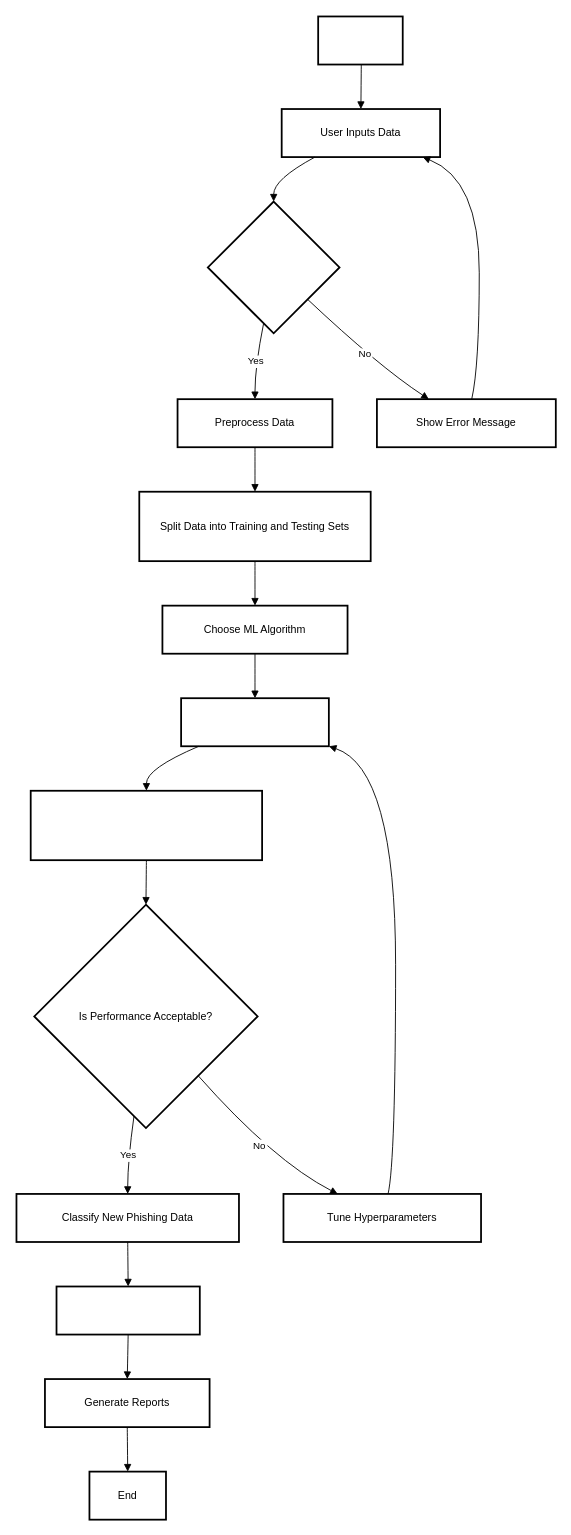
Some shapes in this 571 by 1535 pixel diagram are drawn without their labels. Here are the shapes that lost their labels. From the top down, the box of each, then its label:
(317, 15, 403, 65): Start
(206, 200, 340, 334): Is Data Valid?
(180, 697, 329, 747): Train ML Model
(29, 789, 263, 861): Evaluate Model Performance
(55, 1285, 200, 1335): Visualize Data
